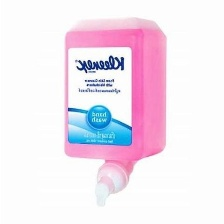cleaning_solution: (59, 11, 168, 213)
